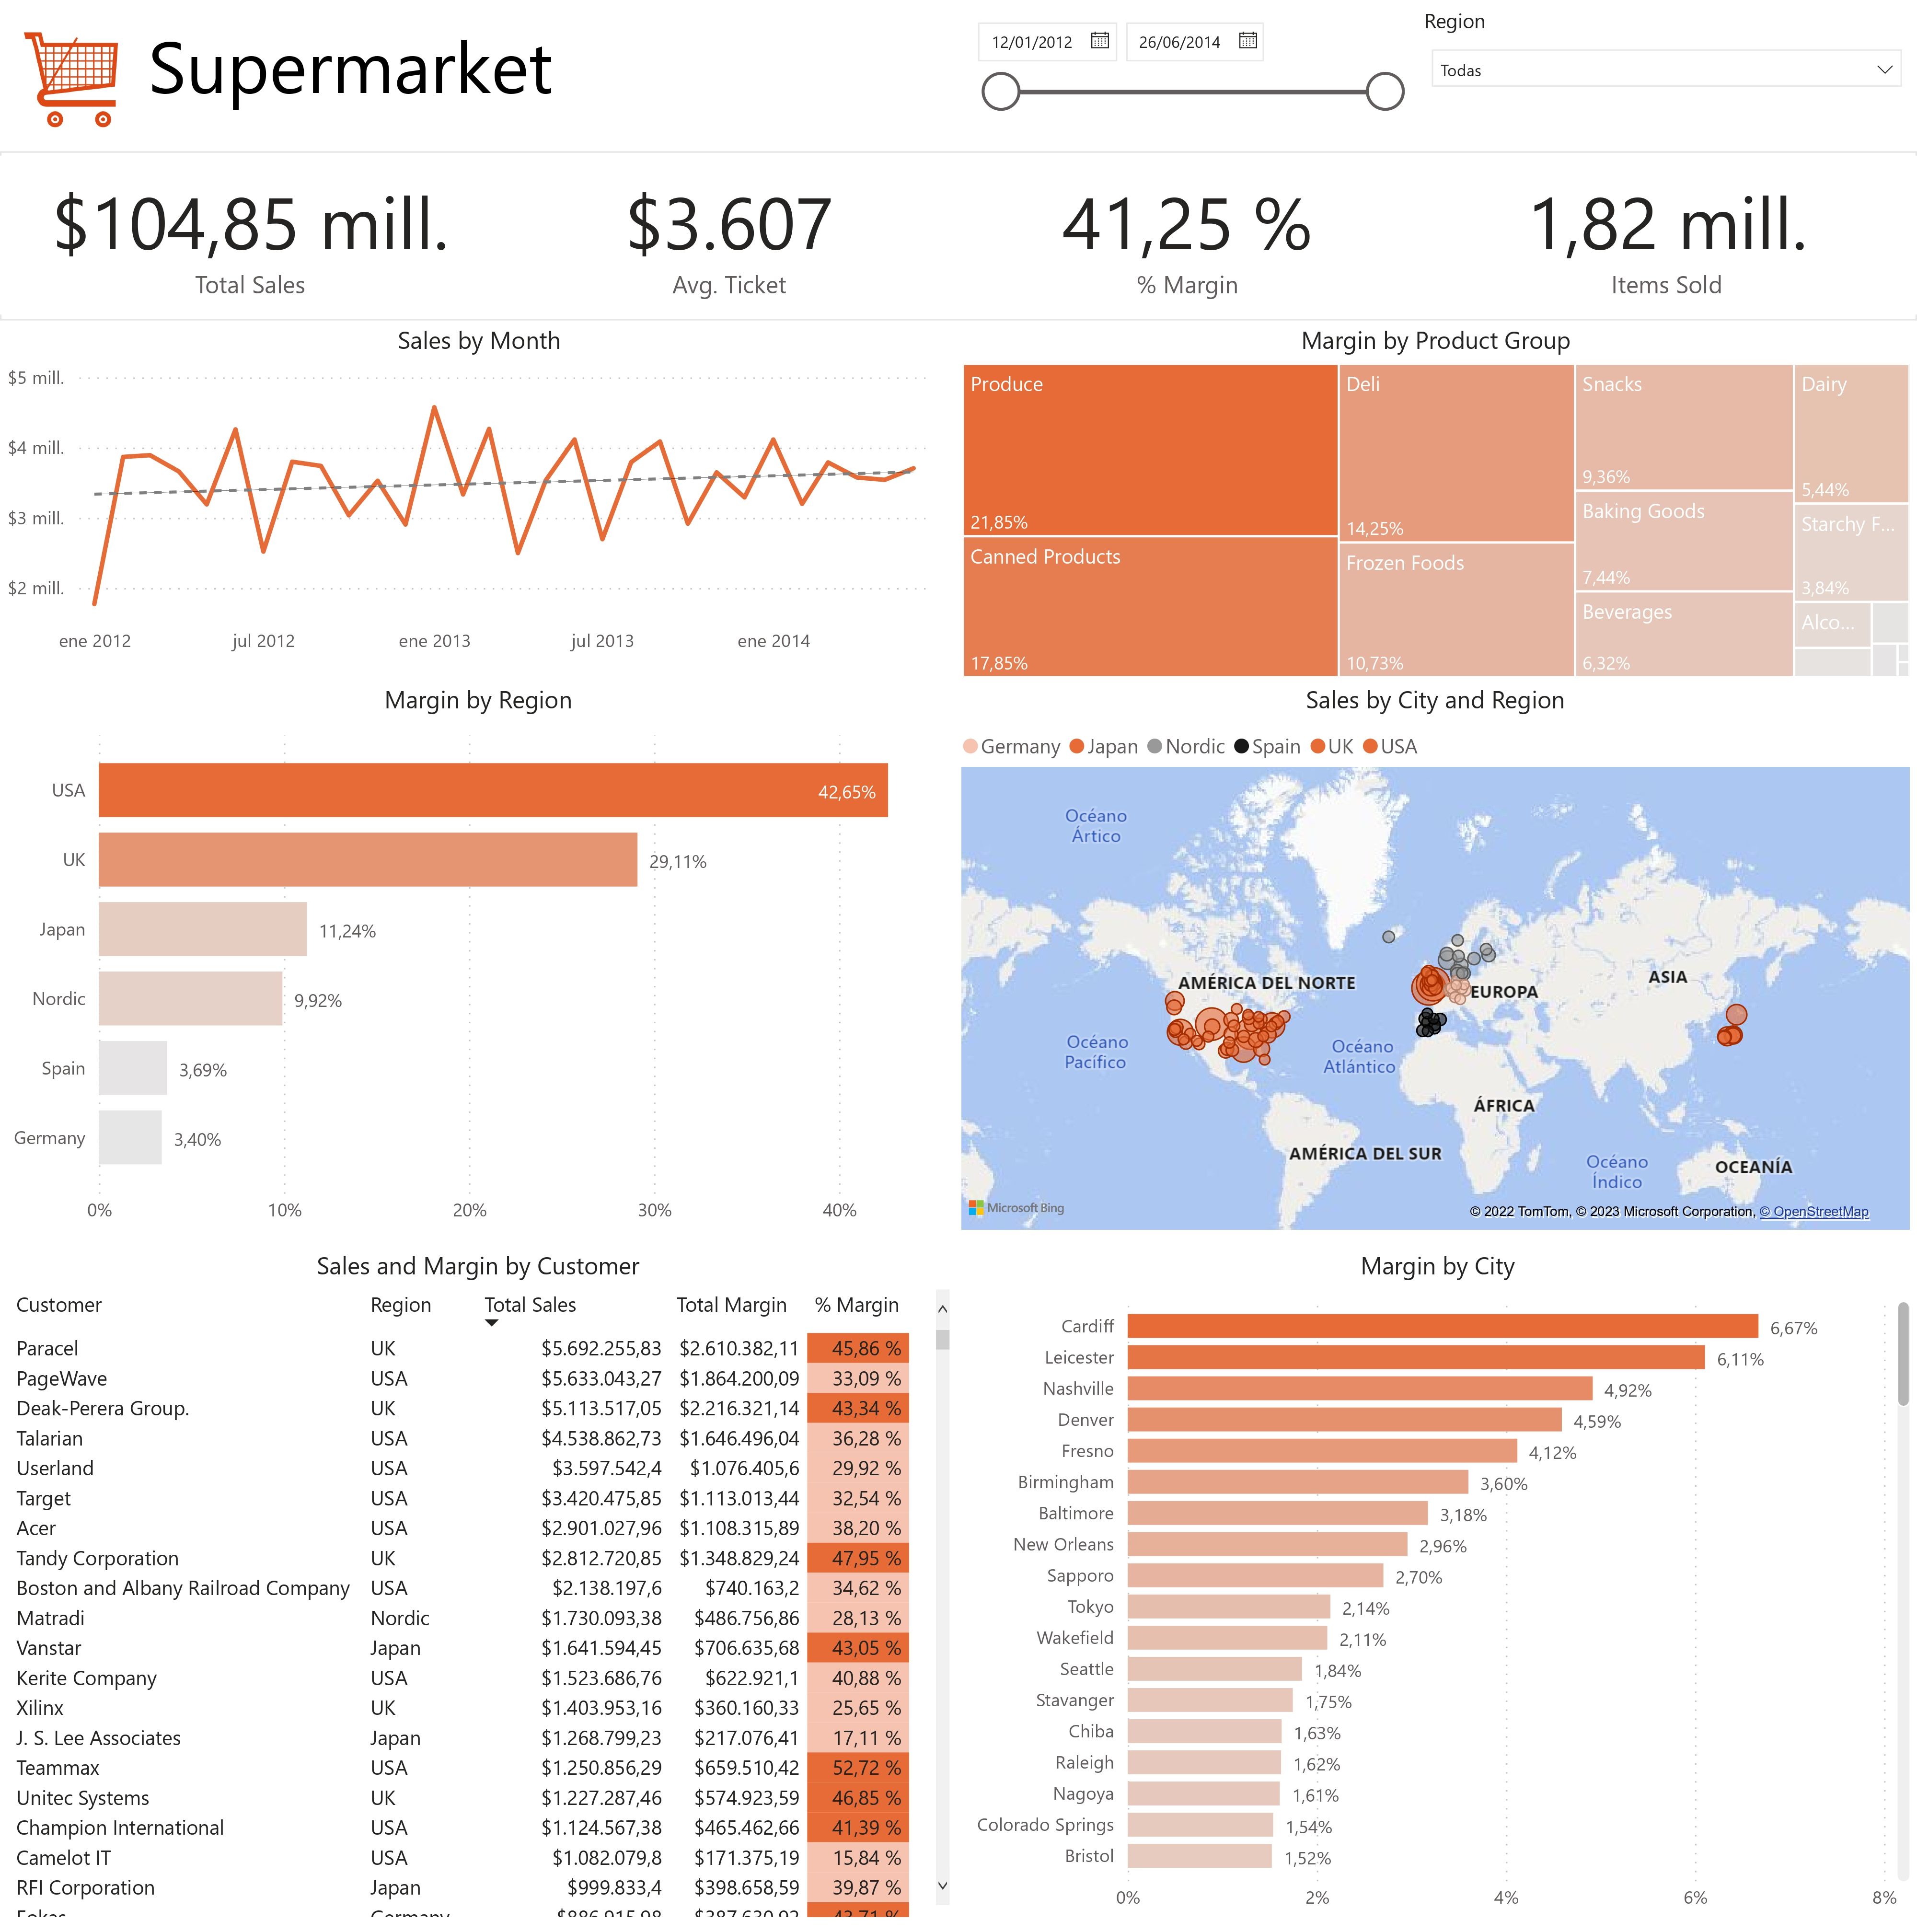

The page's visual inventory and layout, read from the dashboard file:
{"tool":"powerbi","page":{"name":"Dashboard","canvas":[1280,1280],"ordinal":0},"visuals":[{"type":"textbox","box":[94.3,0,585.7,81.4],"z":0},{"type":"image","box":[0,0,94.6,95.6],"z":1000},{"type":"shape","box":[0,95.6,1280,112.7],"z":2000},{"type":"card","fields":{"Values":["measures_model.Total Sales"]},"box":[0,98.6,334.1,105.7],"z":3000},{"type":"card","fields":{"Values":["measures_model.Avg Ticket"]},"box":[334.1,98.6,305.9,105.7],"z":4000},{"type":"card","fields":{"Values":["measures_model.% Margin"]},"box":[640,98.6,305.9,105.7],"z":5000},{"type":"card","fields":{"Values":["measures_model.Quantity Sales"]},"box":[945.9,98.6,334.1,105.7],"z":6000},{"type":"slicer","fields":{"Values":["fact_sales.Date"]},"box":[640,0,306.2,95.1],"z":7000},{"type":"slicer","title":"Region","fields":{"Values":["dim_cities.Region"]},"box":[945.8,0,334.2,95.1],"z":8000},{"type":"lineChart","title":"Sales by Month","fields":{"Category":["fact_sales.Date.Variación.Jerarquía de fechas.Año","fact_sales.Date.Variación.Jerarquía de fechas.Mes"],"Y":["measures_model.Total Sales"]},"box":[0,211.4,640,230],"z":9000},{"type":"treemap","title":"Margin by Product Group","fields":{"Group":["dim_items_master.Product Group"],"Values":["measures_model.Total Margin"]},"box":[638.4,211.2,641.6,241.2],"z":10000},{"type":"barChart","title":"Margin by City","fields":{"Category":["dim_cities.City"],"Y":["measures_model.Total Margin"]},"box":[640,828.6,640,451.4],"z":11000},{"type":"tableEx","title":"Sales and Margin by Customer","fields":{"Values":["dim_customers.Customer","dim_cities.Region","measures_model.Total Sales","measures_model.Total Margin","measures_model.% Margin"]},"box":[0,828.6,638.6,451.4],"z":12000},{"type":"barChart","title":"Margin by Region","fields":{"Category":["dim_cities.Region"],"Y":["measures_model.Total Margin"]},"box":[0,451.4,638.6,370],"z":13000},{"type":"map","title":"Sales by City and Region","fields":{"Category":["dim_cities.City"],"Series":["dim_cities.Region"],"Size":["measures_model.Total Sales"]},"box":[637.1,451.4,642.9,370],"z":14000}]}

Visuals, with their boxes in screenshot pixels (x1, y1, x2, y2), scaled from the page's 1280x1280 canvas onto the 1917x1932 screenshot:
textbox: (141,0,1018,123)
image: (0,0,142,144)
shape: (0,144,1917,314)
card - measures_model.Total Sales: (0,149,500,308)
card - measures_model.Avg Ticket: (500,149,958,308)
card - measures_model.% Margin: (958,149,1417,308)
card - measures_model.Quantity Sales: (1417,149,1917,308)
slicer - fact_sales.Date: (958,0,1417,143)
"Region" slicer: (1417,0,1917,143)
"Sales by Month" lineChart: (0,319,958,666)
"Margin by Product Group" treemap: (956,319,1917,683)
"Margin by City" barChart: (958,1250,1917,1932)
"Sales and Margin by Customer" tableEx: (0,1250,957,1932)
"Margin by Region" barChart: (0,682,957,1240)
"Sales by City and Region" map: (954,682,1917,1240)
